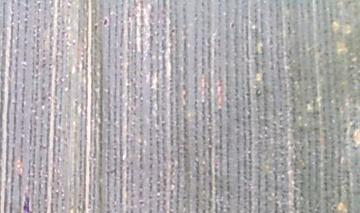tarspot: (21, 194, 33, 213), (102, 16, 111, 29)
